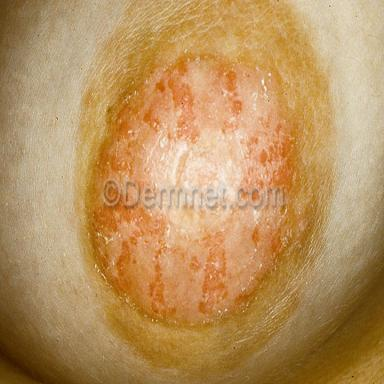eczema: (71, 0, 339, 384)
